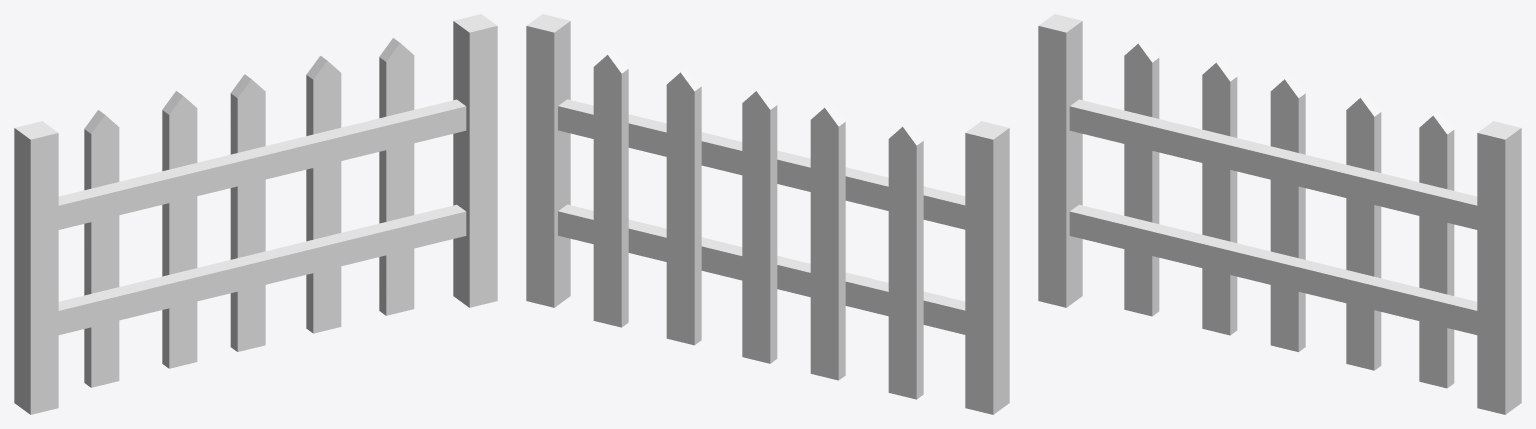
Rendered from CityFence_02_b.fbx.
The picture shows the model from 3 angles, left to right: view 1: azimuth 30°, elevation 25°; view 2: azimuth 150°, elevation 25°; view 3: azimuth 330°, elevation 25°; orthographic projection.
Visible parts, largest first — view 1: CityFence_02_b; view 2: CityFence_02_b; view 3: CityFence_02_b.
Boxes of the visible parts, x1,y1,x2,y2 form: CityFence_02_b: (14,14,497,414); CityFence_02_b: (526,14,1009,414); CityFence_02_b: (1038,14,1521,414).
Size of the model in its own units: 0.3333 by 0.1878 by 0.0242.
